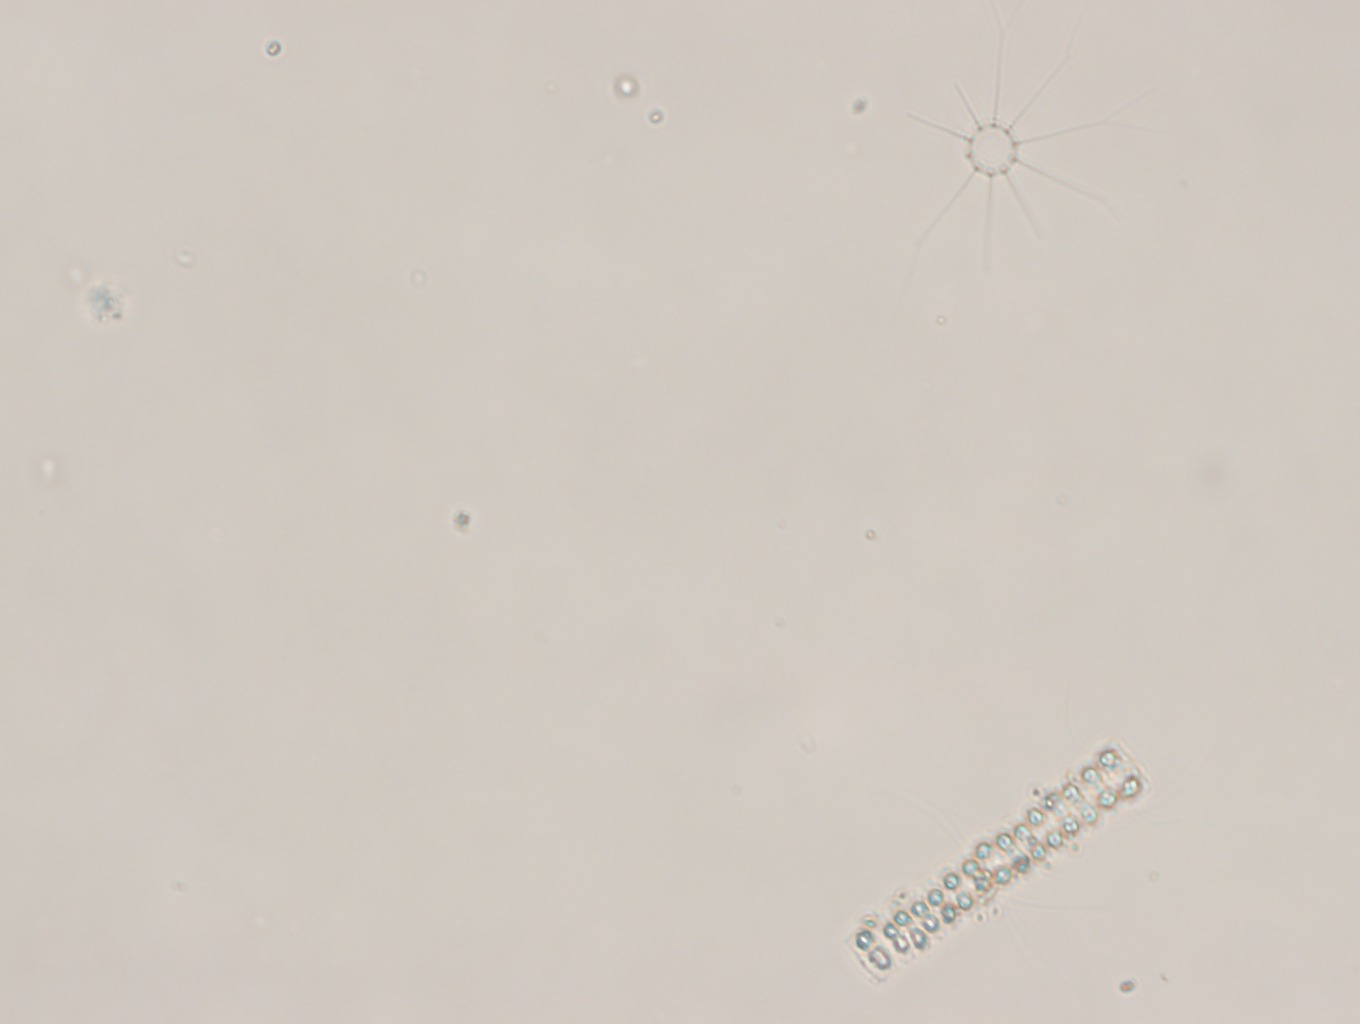bacteriastrum: (891, 8, 1146, 274)
